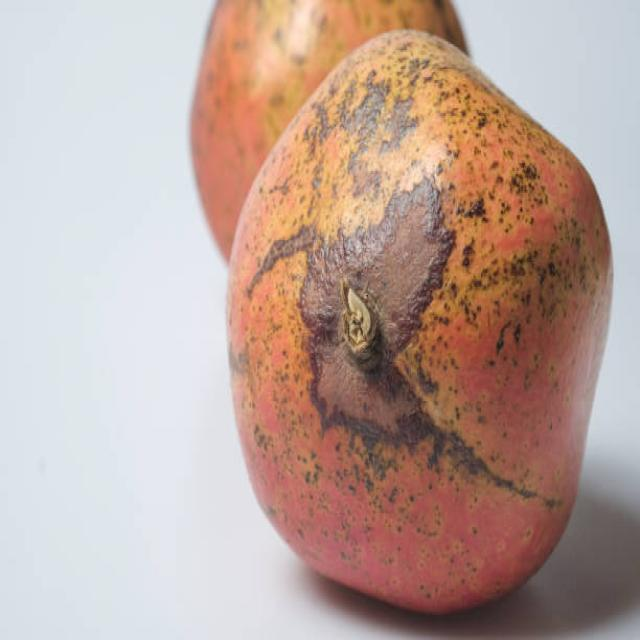overripe: (224, 26, 617, 617)
